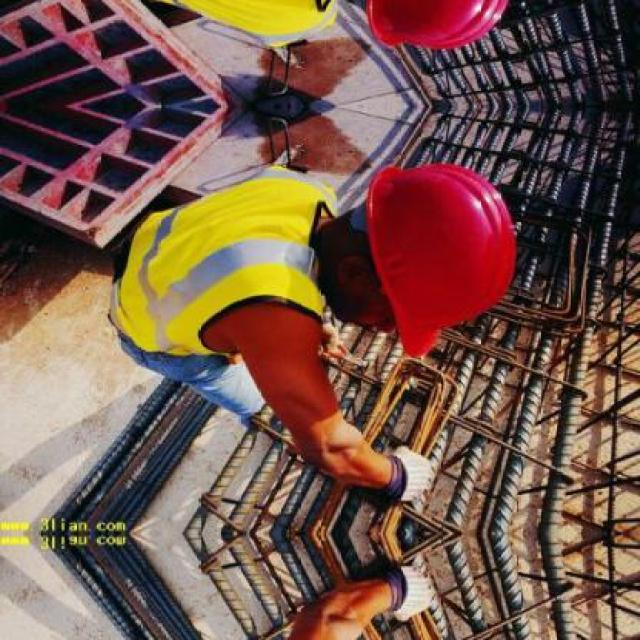helmet: (301, 156, 530, 342), (300, 0, 531, 57)
